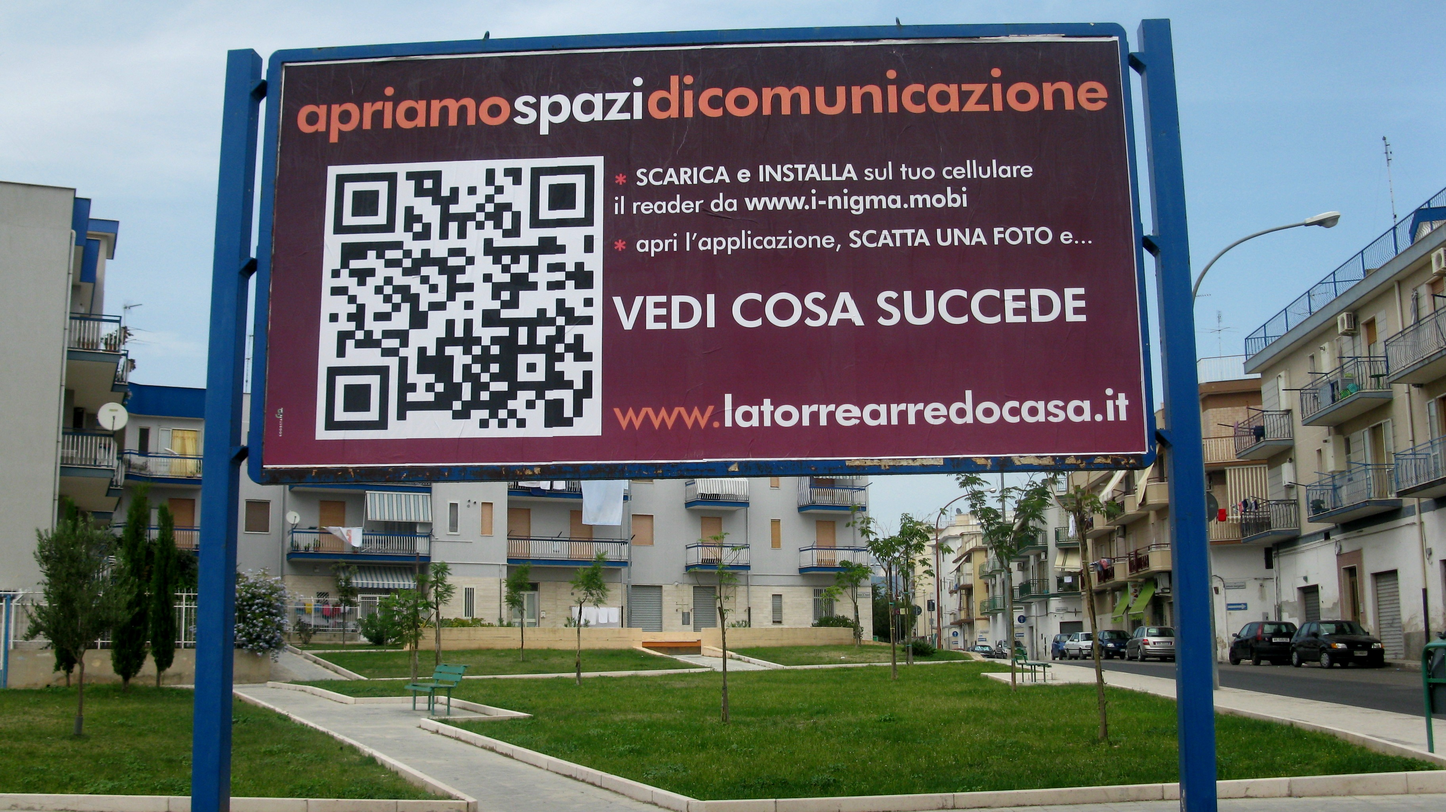QR-CODE: (324, 165, 594, 430)
